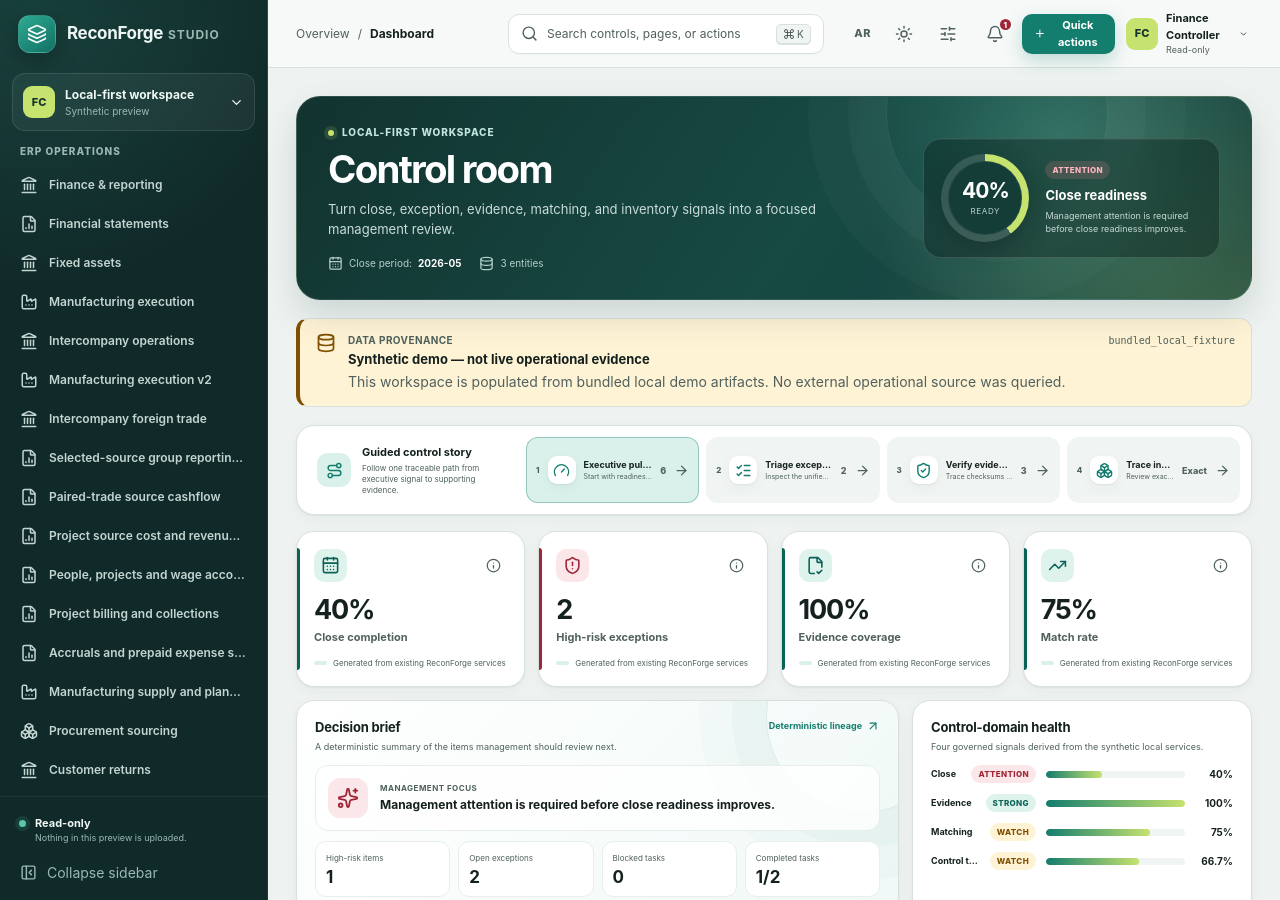
Test: marks bundled Studio fixtures as synthetic rather than live operational evidence in both locales
The width and height of the screenshot is (1280, 900).
Expected: the text "Synthetic demo — not live operational evidence" is shown, [348,352,650,368]
Expected: the text "bundled_local_fixture" is shown, [1109,334,1235,348]
Click the button with test id "locale-toggle": [863, 34] box [846,14,880,54]
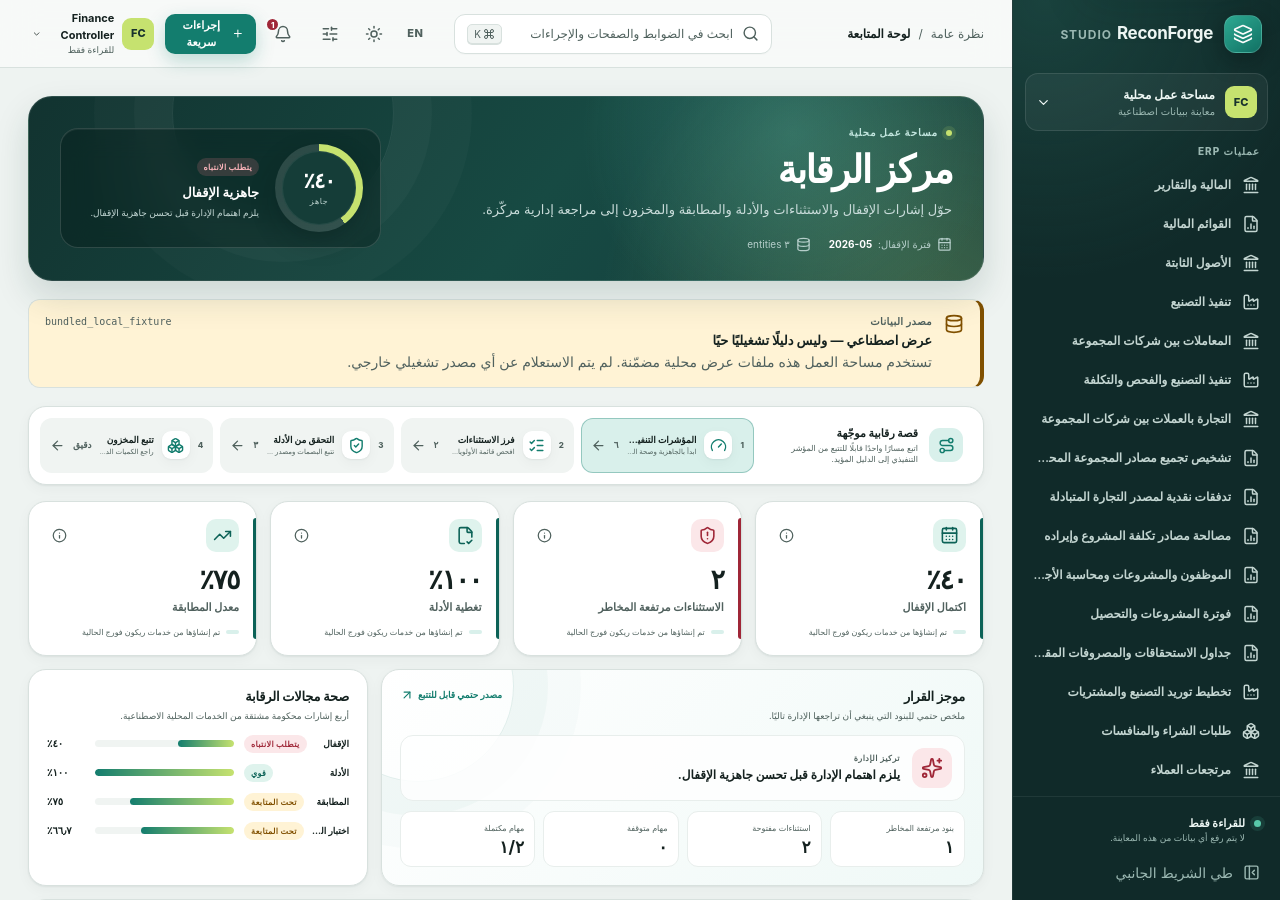
Expected: the text "عرض اصطناعي — وليس دليلًا تشغيليًا حيًا" is shown, [712,332,932,348]
